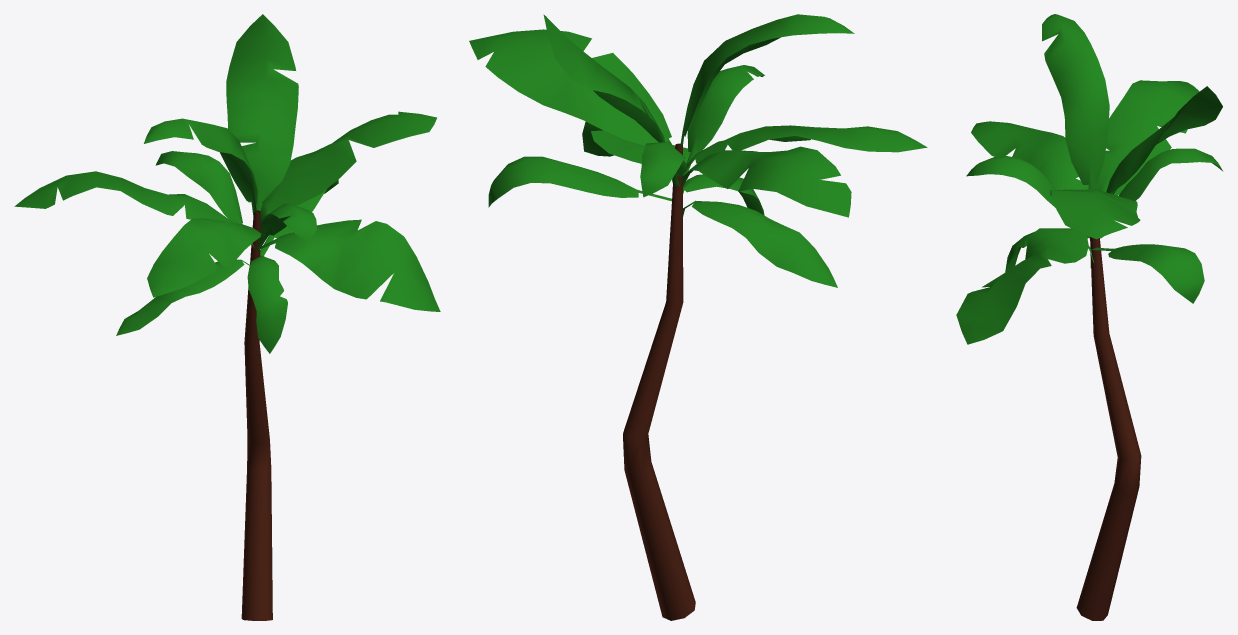
Rendered from Tree_001.FBX.
3 renders of one model, left to right at view 1: azimuth 30°, elevation 25°; view 2: azimuth 150°, elevation 25°; view 3: azimuth 270°, elevation 25°, orthographic. The views are drawn at different scales.
Parts seen in each view (by area): view 1: Tree_001; view 2: Tree_001; view 3: Tree_001.
Boxes of the visible parts, bbox=[...] form: Tree_001: bbox=[14, 14, 440, 620]; Tree_001: bbox=[469, 14, 927, 620]; Tree_001: bbox=[956, 14, 1223, 620].
Bounding box in the file's own units: 272 × 380 × 164.
